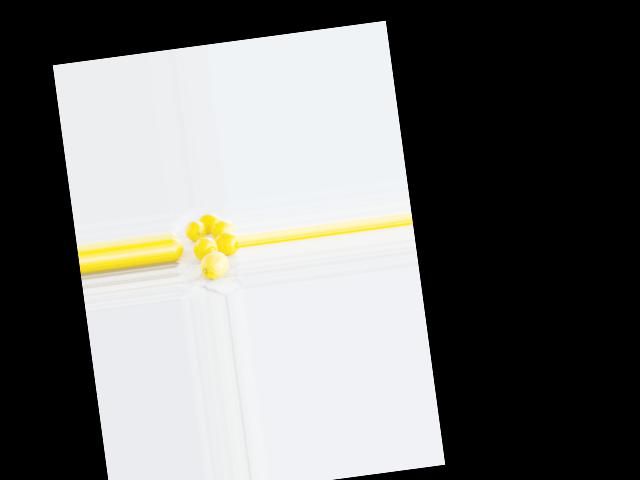lemon: (193, 247, 233, 281)
